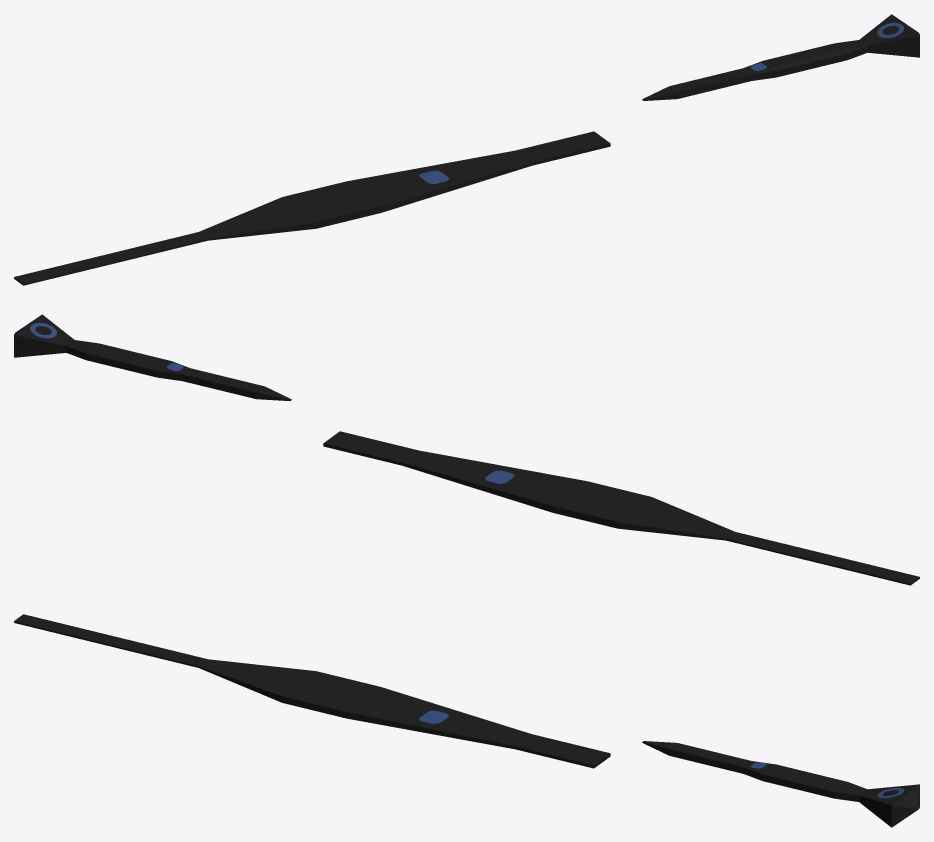
File: Platform.fbx
The picture shows the model from 3 angles, top to bottom: view 1: azimuth 30°, elevation 25°; view 2: azimuth 150°, elevation 25°; view 3: azimuth 330°, elevation 25°; orthographic projection.
Visible parts, largest first — view 1: Cube; view 2: Cube; view 3: Cube.
Boxes of the visible parts, x1,y1,x2,y2 form: Cube: (14,14,919,285); Cube: (14,314,919,585); Cube: (14,614,919,827).
Bounding box in the file's own units: 8271 × 390 × 545.
